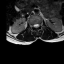CCS_normal: (35, 21, 37, 29)
LFS_normal: (39, 22, 41, 28)
LLS_normal: (37, 22, 39, 28)
RFS_normal: (31, 22, 33, 29)
RLS_normal: (33, 22, 35, 29)
